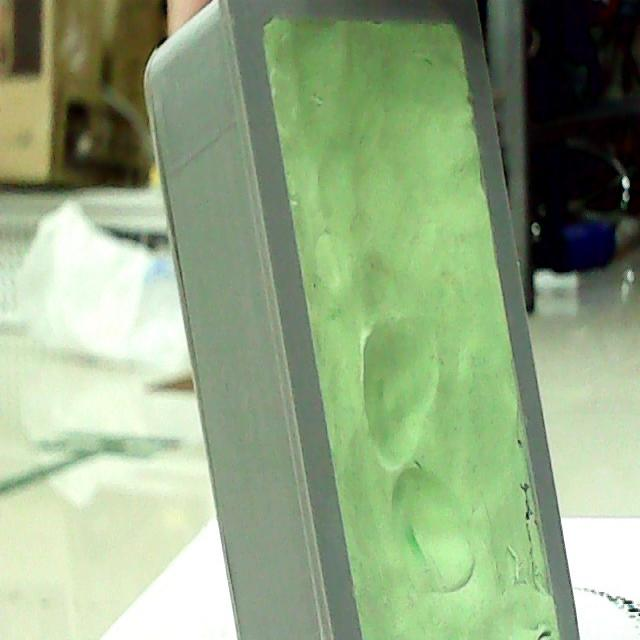block: (141, 1, 581, 640)
